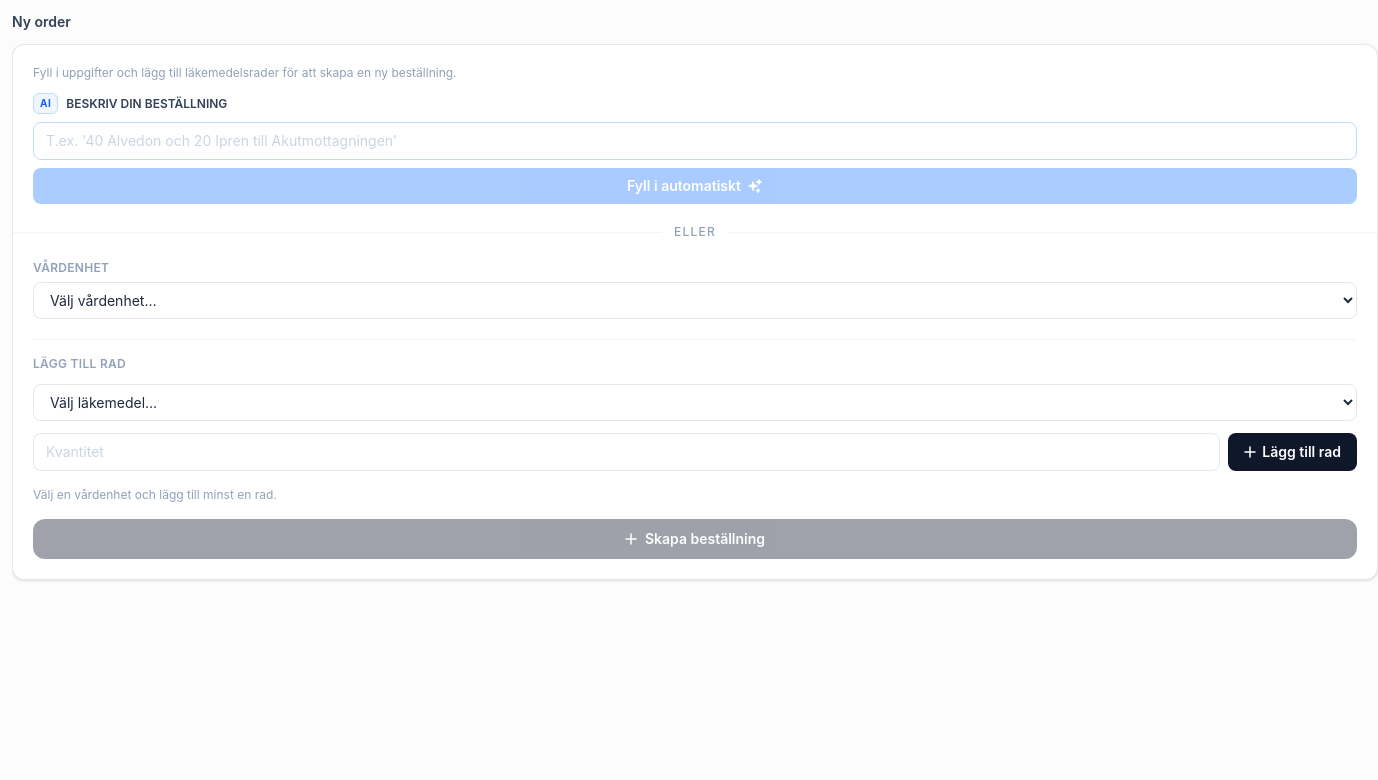
Test case: NewOrderPanel › adding a row › shows a validation error when quantity is zero
The image size is (1378, 780).
Select "Alvedon · 500 mg (Tablett)" in the 2nd dropdown. click: {"x": 695, "y": 402}
box: [33,384,1357,421]
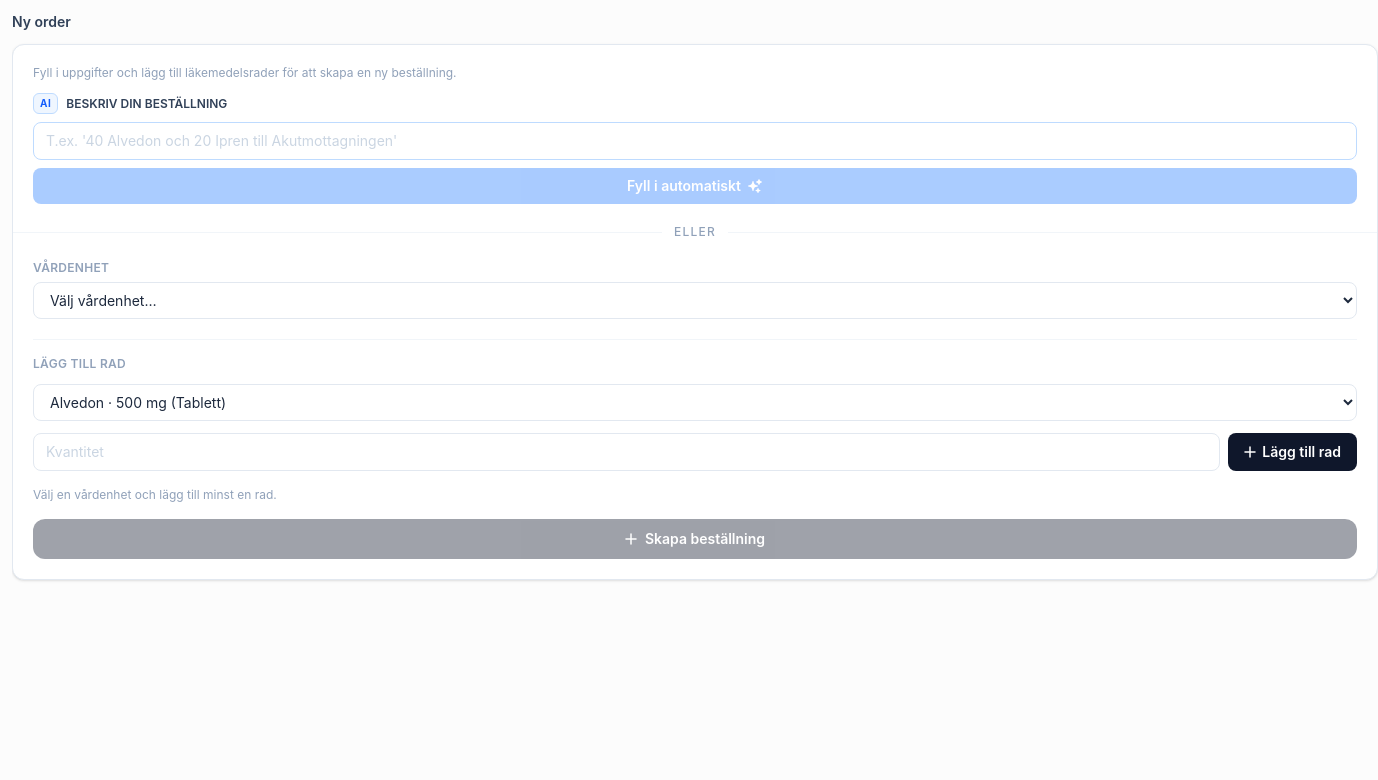
Type "0" into the number field with placeholder "Kvantitet". click: {"x": 627, "y": 452}
box: [33,433,1220,471]
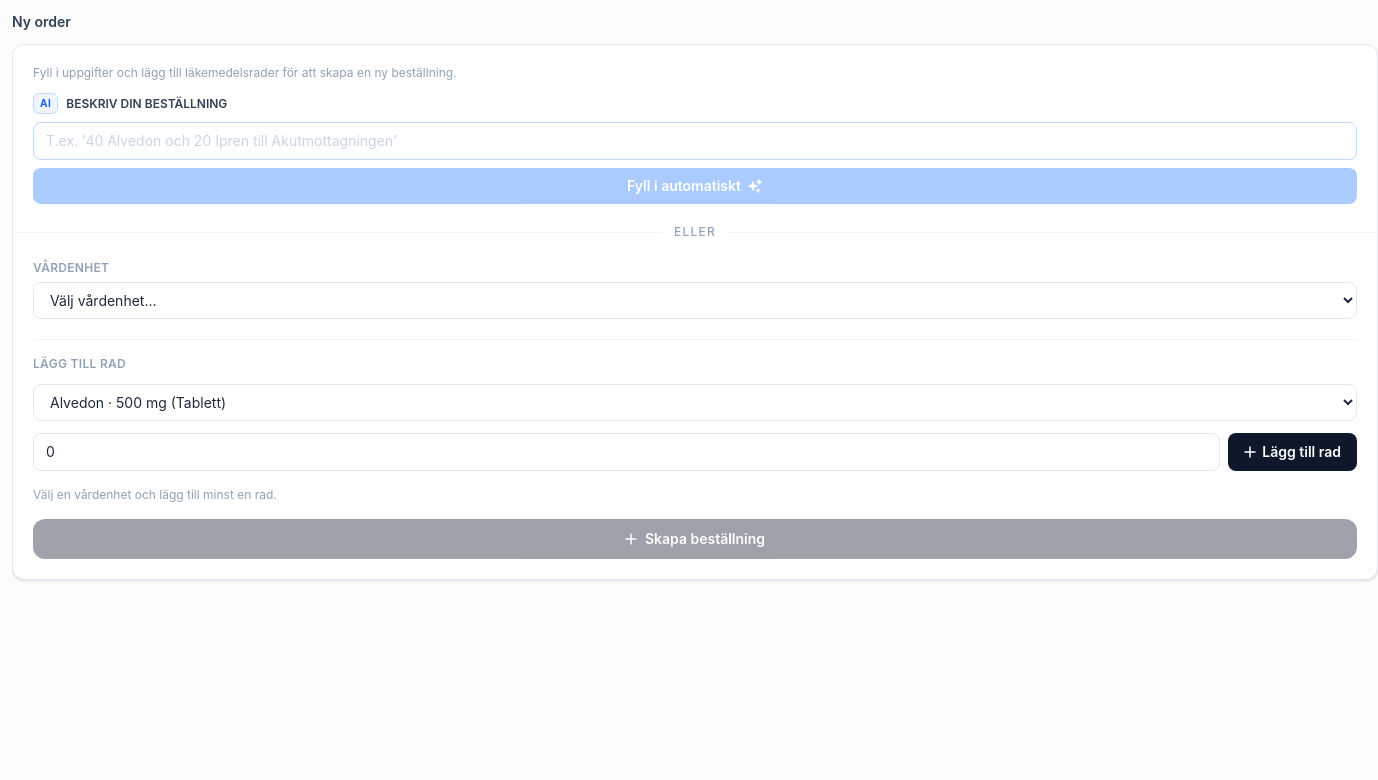
Click the button "Lägg till rad". click: {"x": 1293, "y": 452}
box: [1228,433,1357,471]
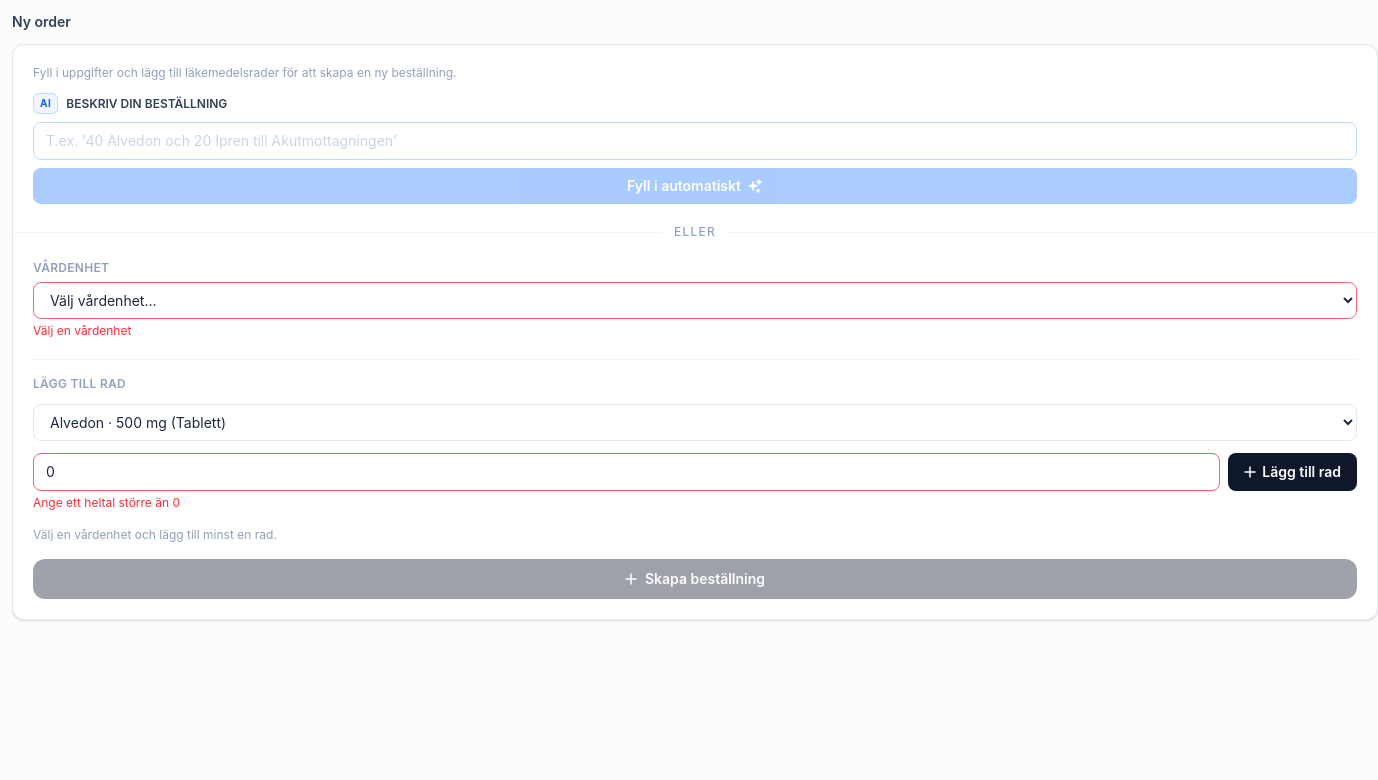
expect the text "Ange ett heltal större än 0" is shown: met, box [33,495,180,510]
